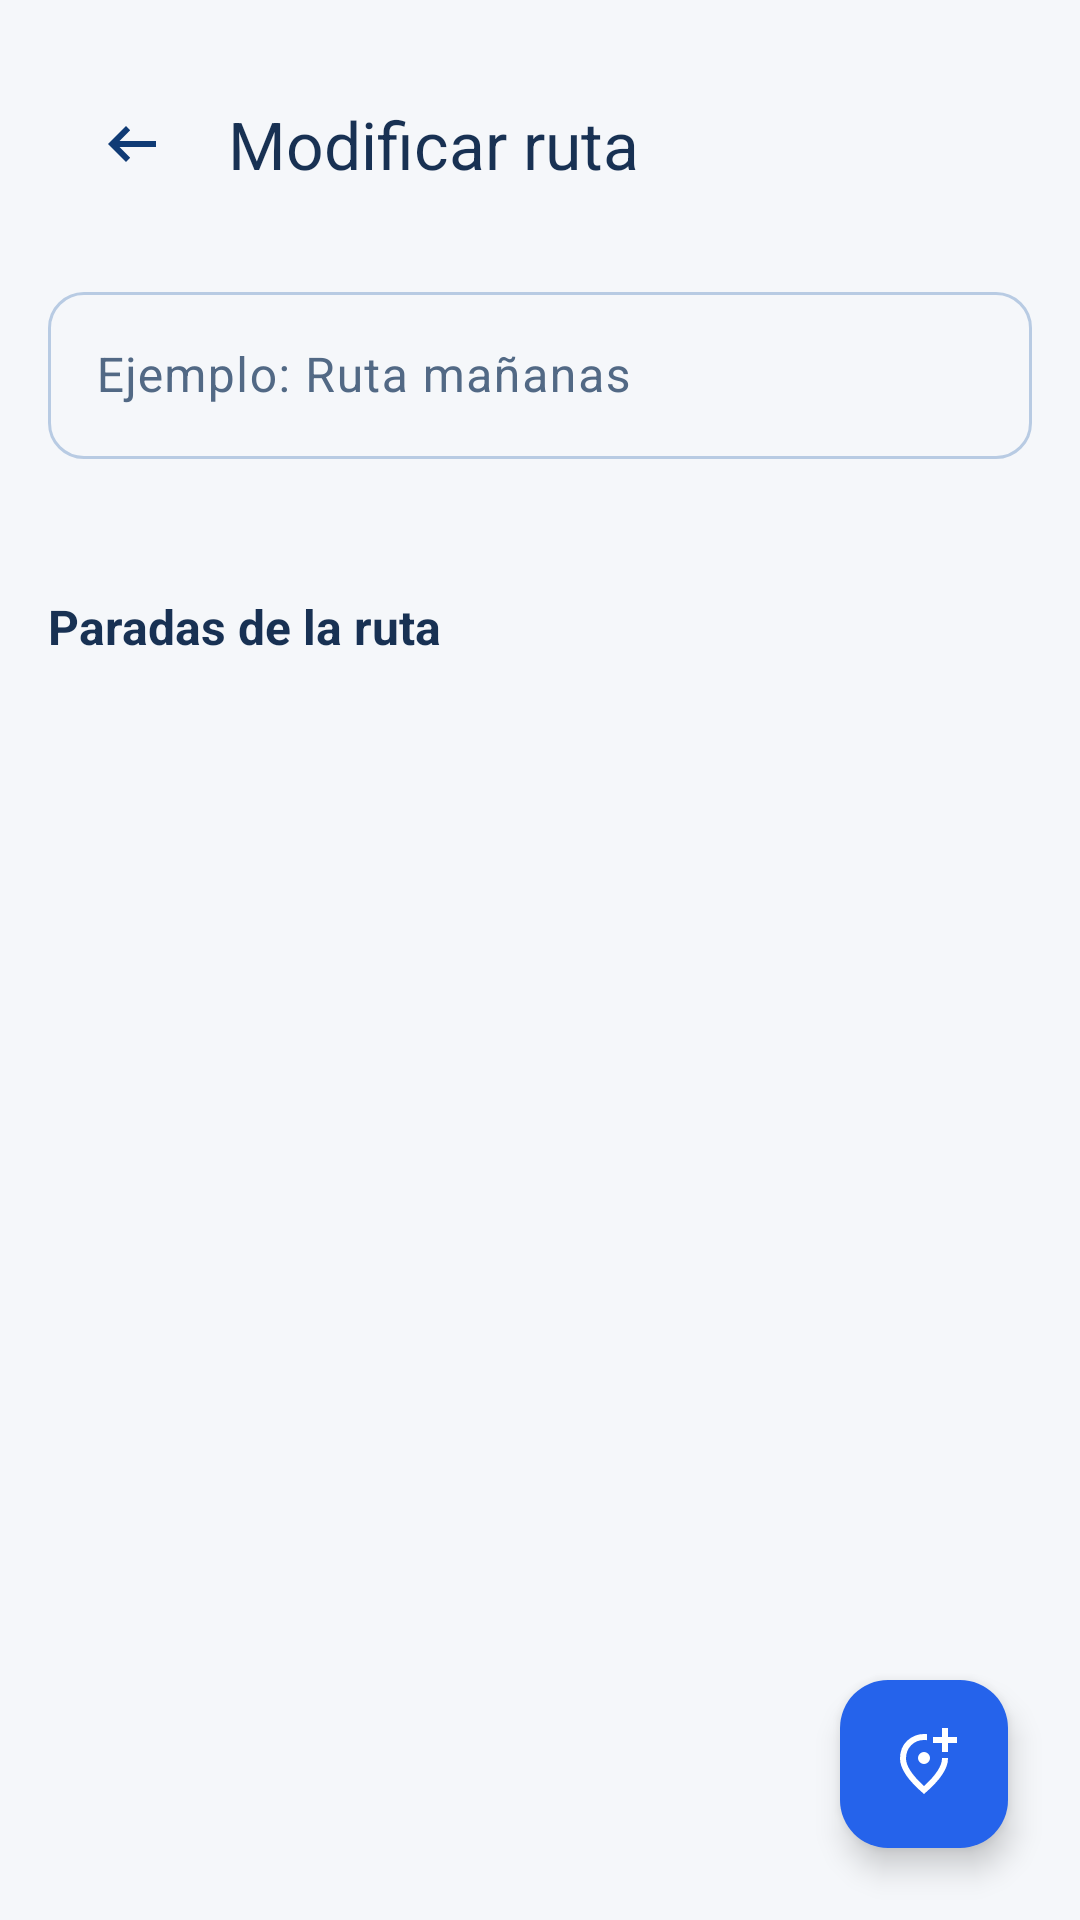

Point at icon controls on the screen. Image size 1080*1920, points as point (x, y).
Añadir parada: point (924, 1764)
